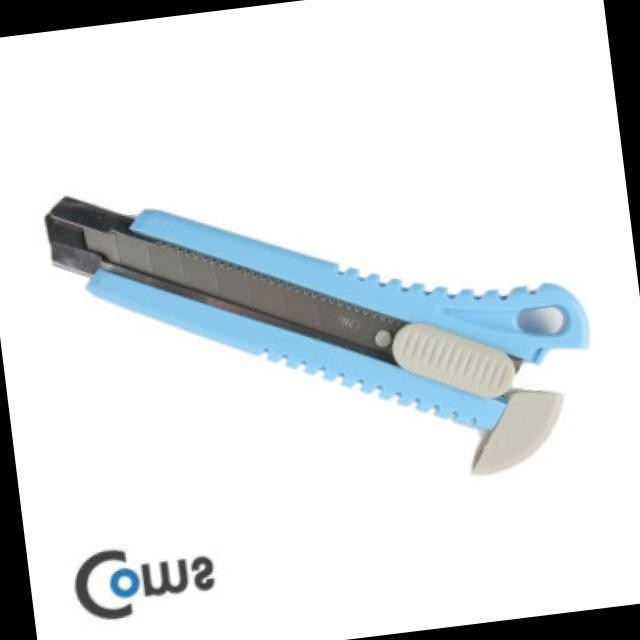cutter: (24, 126, 618, 543)
